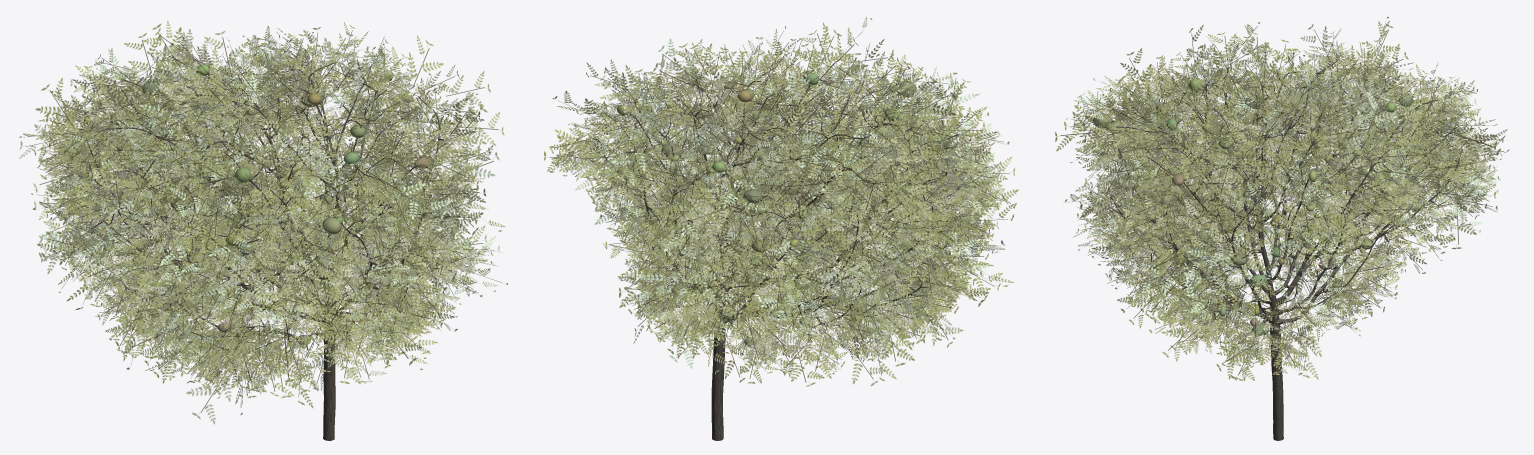
The model's file is tree_42_broadleaf.glb.
3 views of the same model, side by side, from view 1: azimuth 30°, elevation 25°; view 2: azimuth 150°, elevation 25°; view 3: azimuth 270°, elevation 25° (orthographic). The views are drawn at different scales.
Visible parts, largest first — view 1: tree_42_broadleaf.leaves, tree_42_broadleaf.trunk_branches, tree_42_broadleaf.foliage_volume; view 2: tree_42_broadleaf.leaves, tree_42_broadleaf.trunk_branches, tree_42_broadleaf.foliage_volume; view 3: tree_42_broadleaf.leaves, tree_42_broadleaf.trunk_branches, tree_42_broadleaf.foliage_volume.
Boxes of the visible parts, left/top/right/bottom form: tree_42_broadleaf.leaves: left=19, top=21, right=507, bottom=424; tree_42_broadleaf.trunk_branches: left=83, top=55, right=443, bottom=440; tree_42_broadleaf.foliage_volume: left=83, top=64, right=441, bottom=345; tree_42_broadleaf.leaves: left=544, top=16, right=1018, bottom=386; tree_42_broadleaf.trunk_branches: left=592, top=59, right=962, bottom=440; tree_42_broadleaf.foliage_volume: left=602, top=72, right=947, bottom=346; tree_42_broadleaf.leaves: left=1055, top=17, right=1509, bottom=380; tree_42_broadleaf.trunk_branches: left=1109, top=52, right=1463, bottom=440; tree_42_broadleaf.foliage_volume: left=1092, top=78, right=1435, bottom=335.
Size of the model in its own units: 11.94 by 10.42 by 12.26.
Materials: 3 (2 with a texture image).
